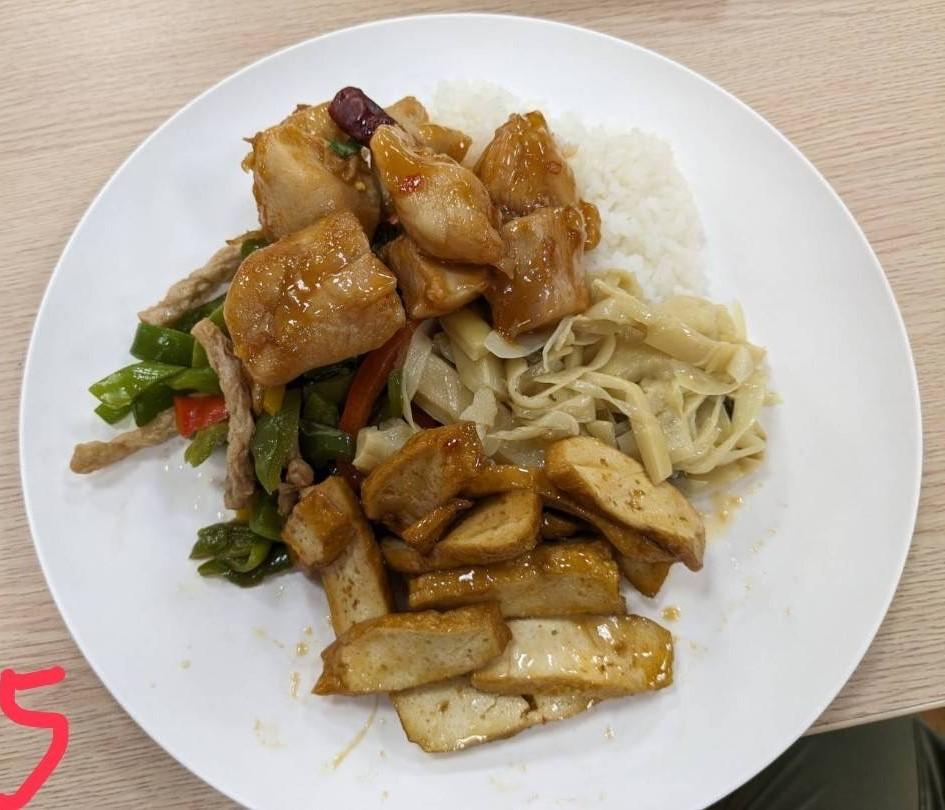big fried chicken leg: (20, 12, 935, 810)
big herbal chicken leg: (412, 80, 702, 315)
braised fish fillet: (281, 429, 701, 752), (87, 240, 404, 581), (398, 295, 777, 479)
braised pork: (224, 79, 599, 392)
